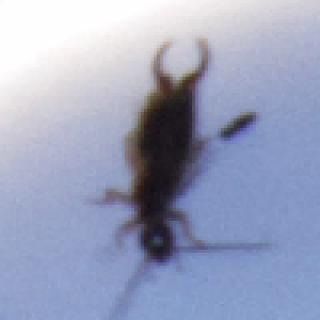earwig: (88, 30, 277, 318)
